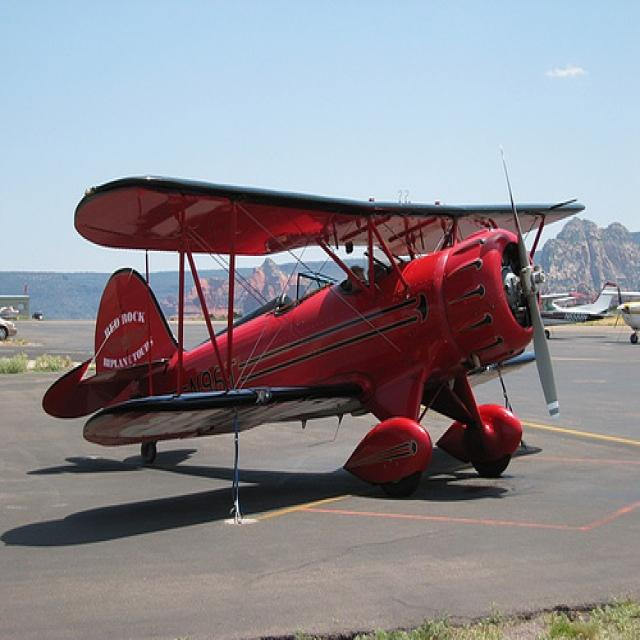aeroplane: (42, 143, 585, 501), (537, 281, 618, 339), (614, 297, 640, 348)
car: (1, 317, 18, 344)
